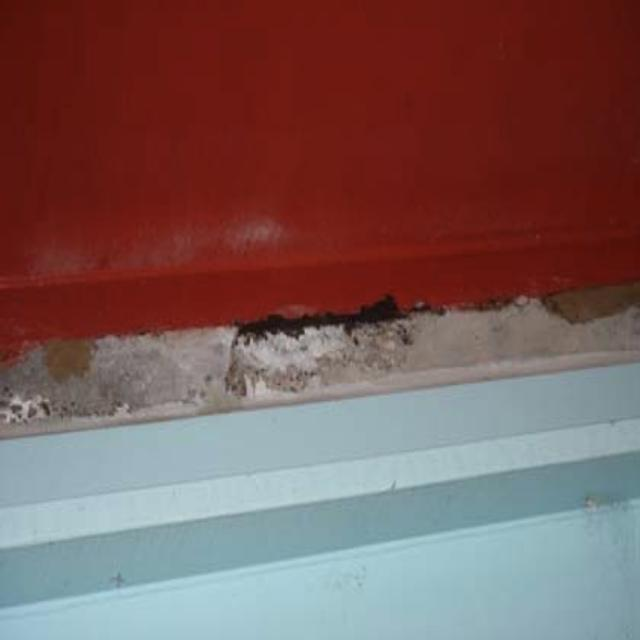spalling: (194, 258, 429, 403)
